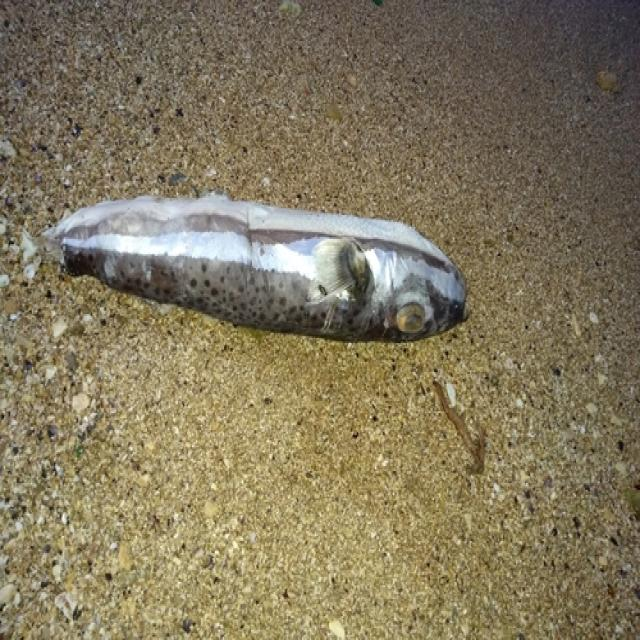Balik: (45, 195, 465, 341)
